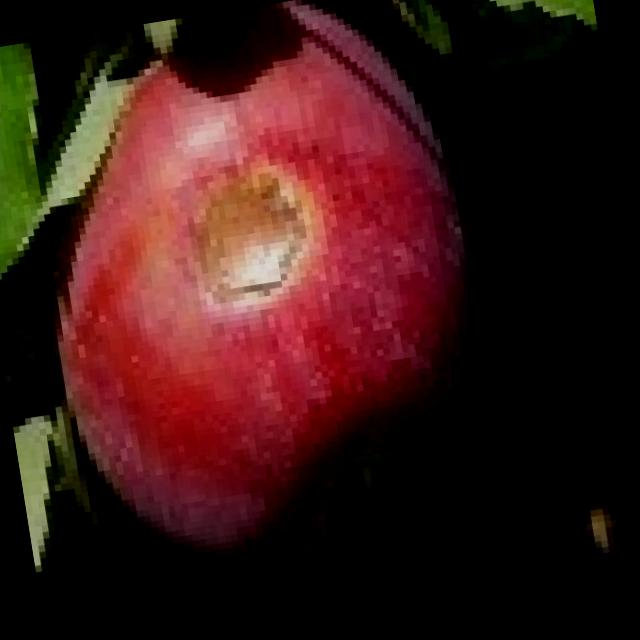Apple: (10, 0, 523, 608)
